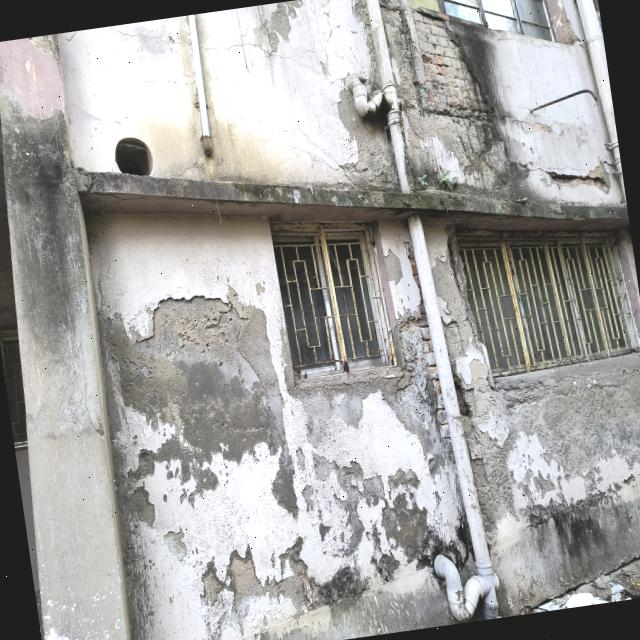crack: (201, 31, 356, 100), (543, 158, 614, 193)
peeling: (422, 219, 640, 612), (296, 225, 477, 573), (111, 262, 309, 539), (379, 0, 542, 189), (330, 77, 397, 184)
spalling: (416, 4, 509, 128)
stain_mould: (0, 35, 629, 640), (455, 357, 640, 614), (172, 291, 302, 511)
